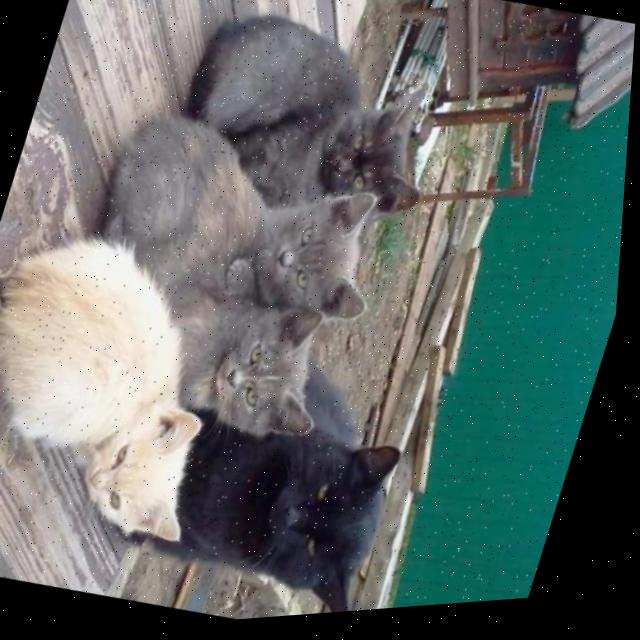Cats: (97, 314, 464, 632), (0, 197, 275, 612), (73, 118, 391, 472), (156, 0, 483, 267), (208, 150, 413, 353)
